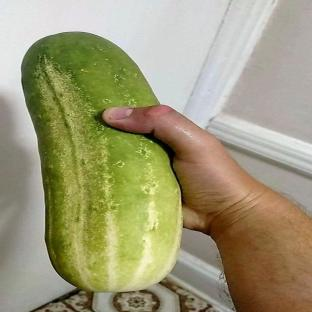Cucumber: (22, 33, 181, 291)
